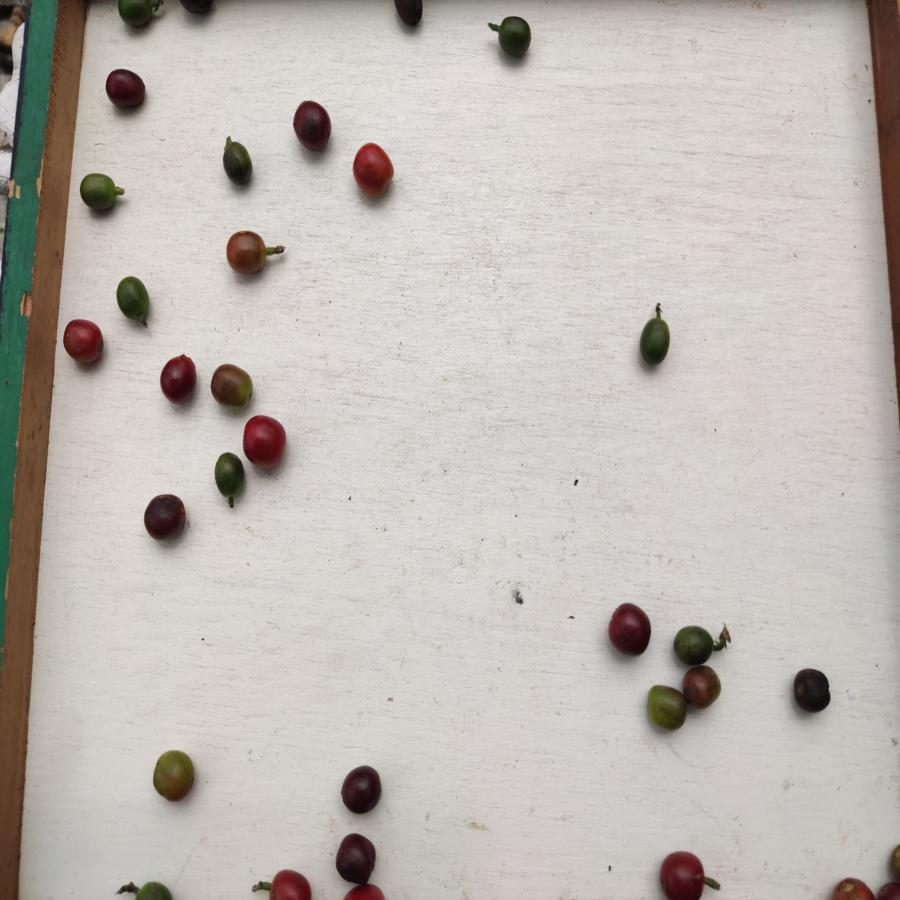Inmaduro: (78, 169, 123, 214), (672, 623, 720, 665), (114, 274, 154, 324), (637, 318, 674, 369), (496, 12, 533, 62), (210, 451, 247, 498), (220, 141, 256, 187)
Maduro: (349, 139, 398, 196), (241, 412, 285, 471), (63, 319, 108, 361), (265, 870, 319, 900)
Pinton: (150, 750, 200, 803), (210, 363, 259, 412), (224, 231, 268, 281), (647, 685, 690, 735), (686, 666, 723, 707)
Sobremaduro: (655, 845, 713, 900), (608, 599, 656, 659), (332, 834, 380, 888), (142, 492, 189, 542), (290, 98, 333, 151), (790, 665, 832, 719), (340, 765, 383, 811), (160, 354, 202, 400), (102, 70, 150, 110)
